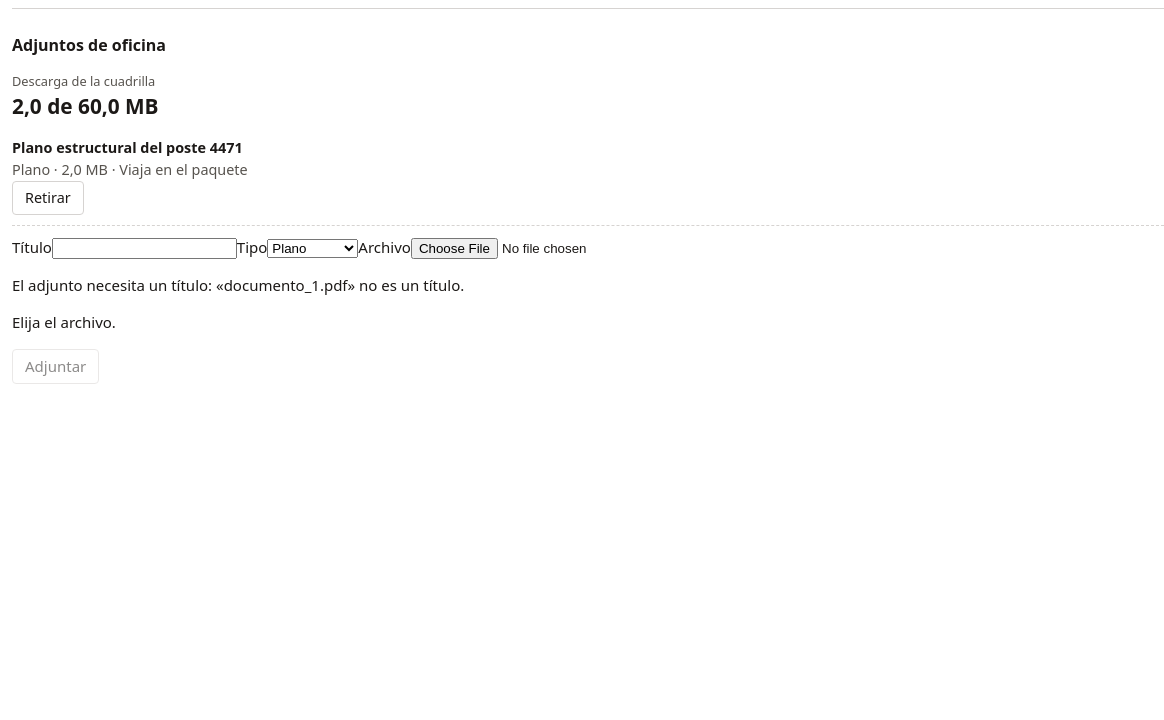
it: retirar un adjunto › dice que no se borra antes de que alguien pulse
What coordinates should you click on to do the following:
click the button "Retirar"
I would click on:
 (48, 198)
Its box is [12,181,84,215].
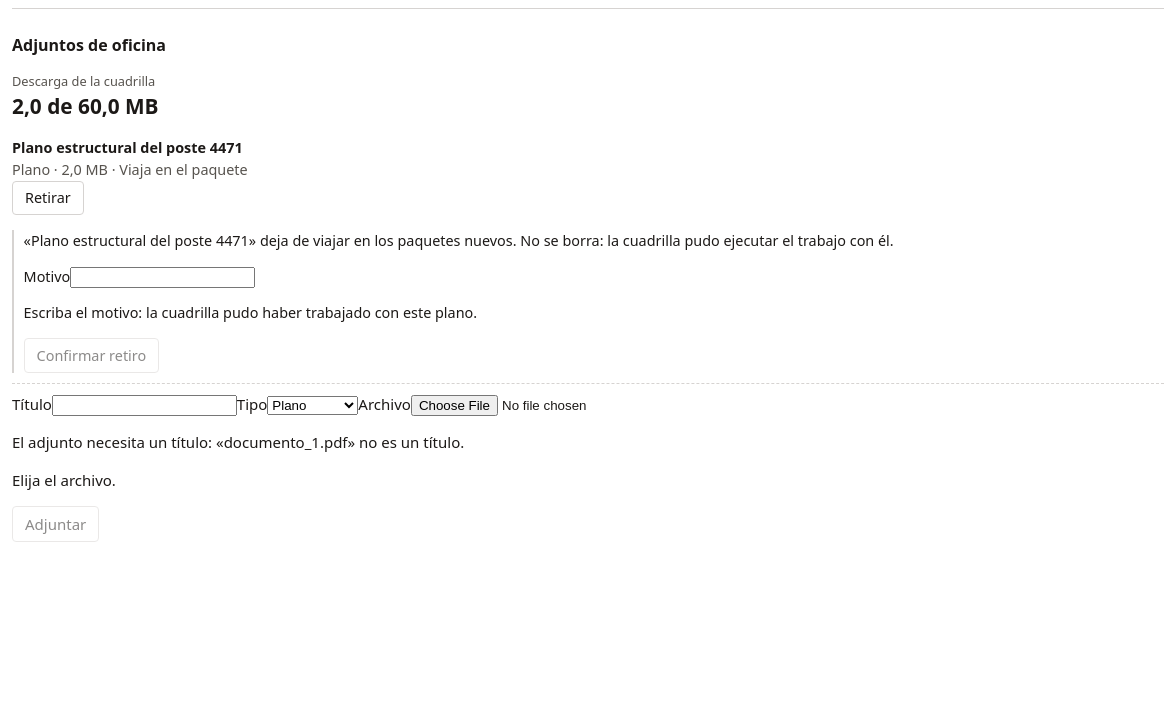
Expected: the text "No se borra" is shown, [24,231,894,250]
